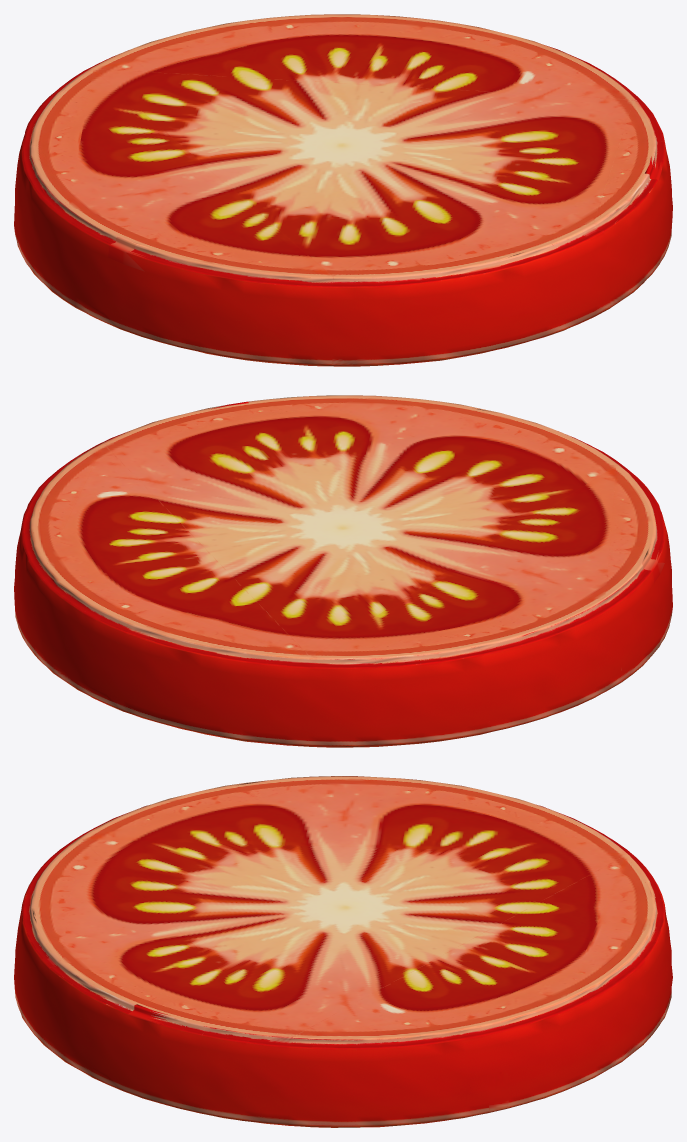
Rendered from tomato_slice.fbx.
3 views of the same model, one above another, from view 1: azimuth 30°, elevation 25°; view 2: azimuth 150°, elevation 25°; view 3: azimuth 270°, elevation 25° (orthographic).
Parts seen in each view (by area): view 1: tomato slice; view 2: tomato slice; view 3: tomato slice.
Boxes of the visible parts, x1=… form: tomato slice: x1=14, y1=14, x2=672, y2=366; tomato slice: x1=14, y1=395, x2=672, y2=747; tomato slice: x1=14, y1=776, x2=672, y2=1127.
Size of the model in its own units: 38.12 by 5.56 by 38.12.
1 material, 1 textured.
